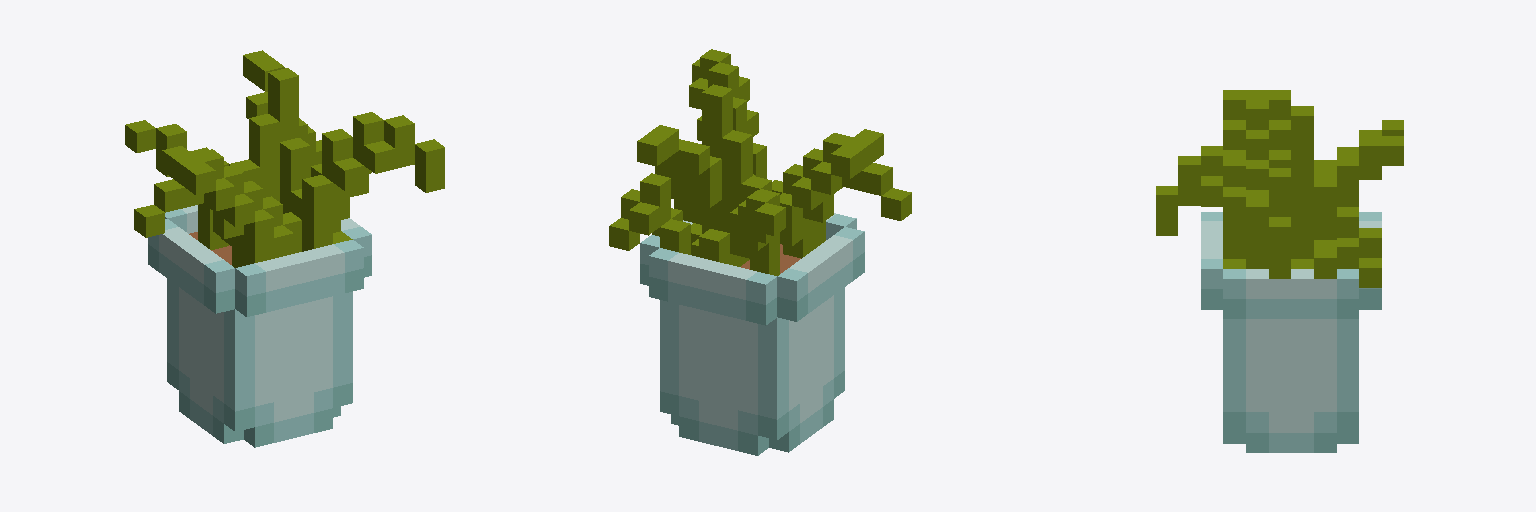
3 views of the same model, side by side, from view 1: azimuth 30°, elevation 25°; view 2: azimuth 150°, elevation 25°; view 3: azimuth 270°, elevation 25° (orthographic).
Visible parts, largest first — view 1: object 1; view 2: object 1; view 3: object 1.
Part boxes in pixels (x1,y1,x2,y2): object 1: (125,50,444,447); object 1: (609,49,911,455); object 1: (1156,90,1403,452).
Size of the model in its own units: 1.3 by 1.6 by 1.1.
Materials: 1 (1 with a texture image).